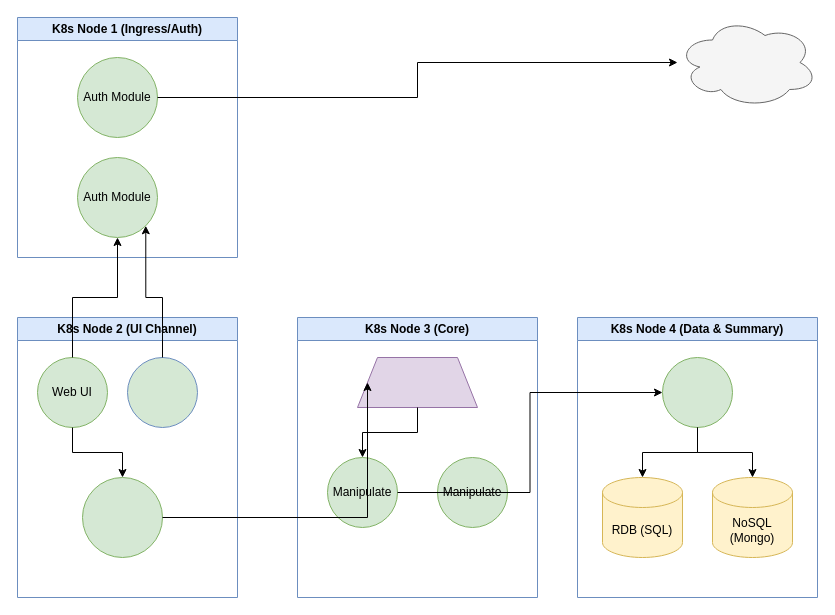
This 835x615 diagram has some shape labels left out. Each missing label, with the centre of its shape:
Account System\n(External): the point at 747,62
Event Queue: the point at 417,382
Listen Tx: the point at 122,517
Summary: the point at 697,392
Win App API: the point at 162,392
